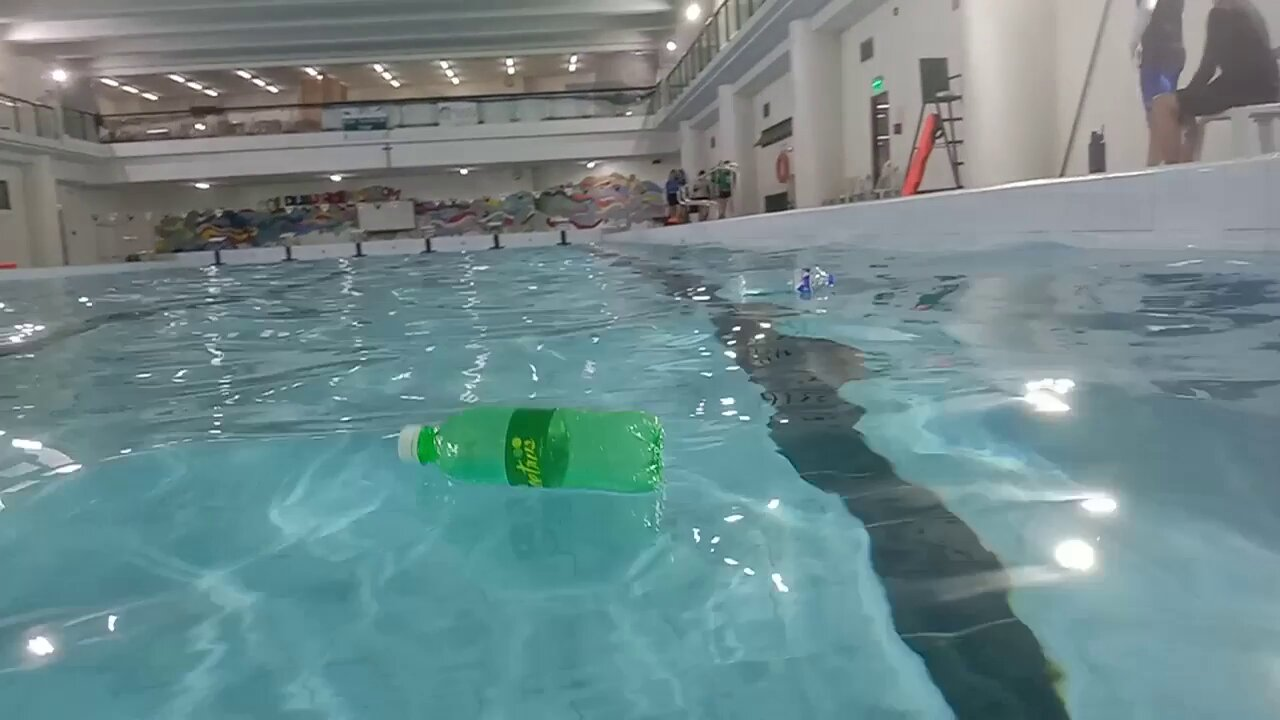plastic_bottle: (399, 409, 664, 488), (737, 266, 838, 296)
